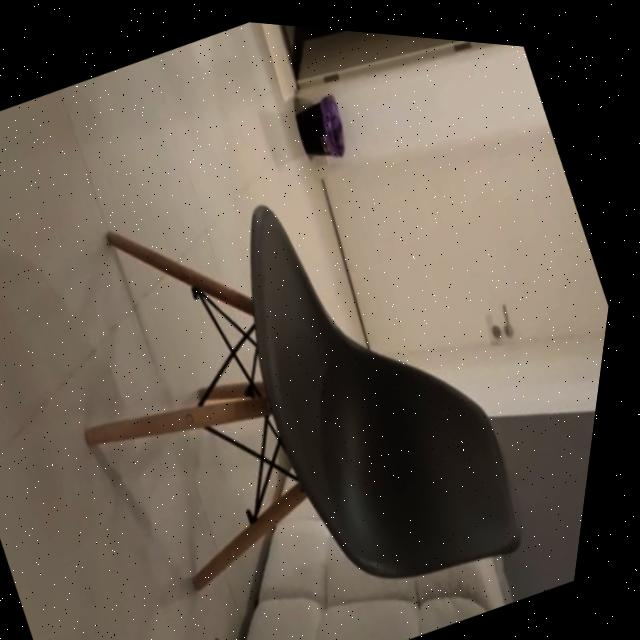sandalye: (97, 200, 531, 585)
